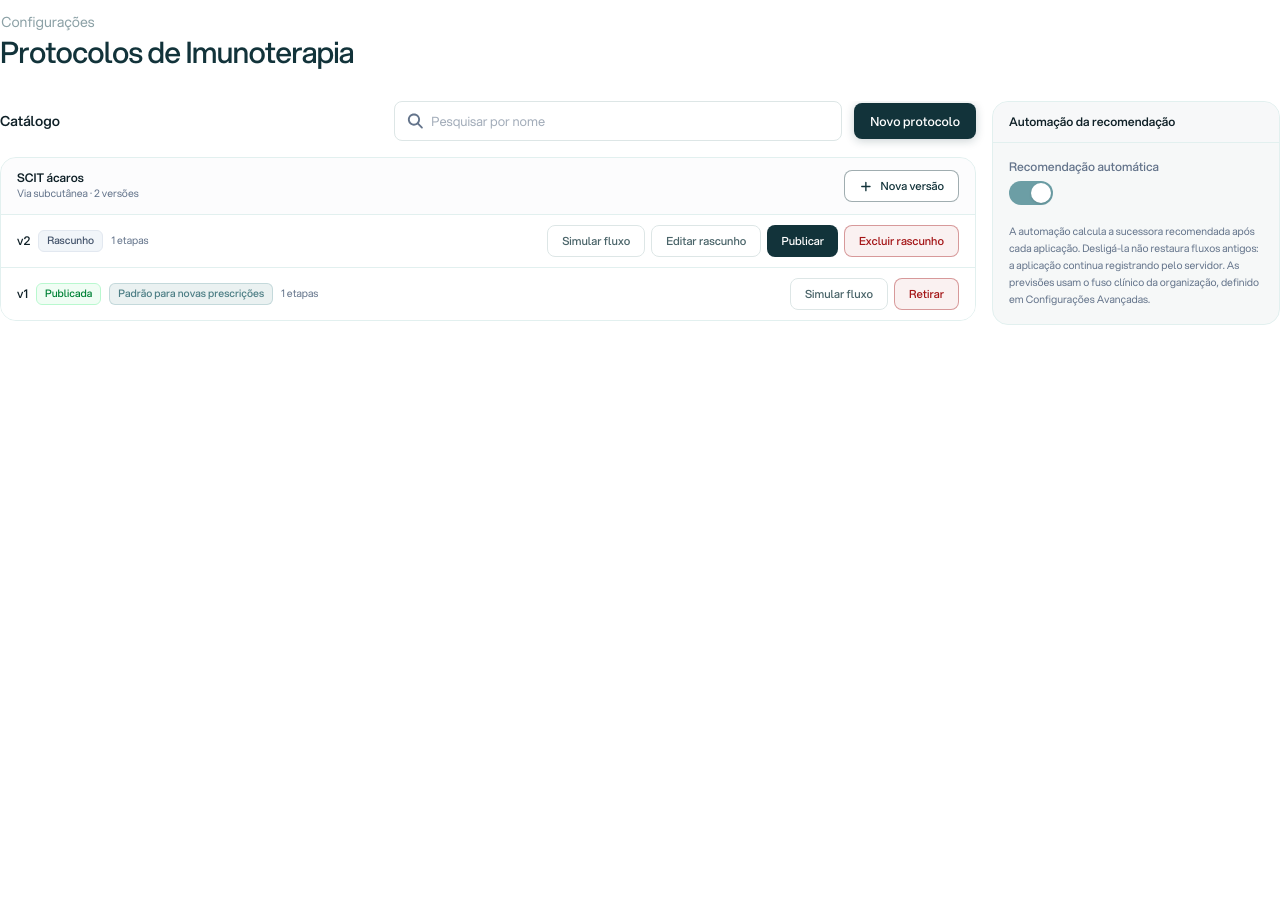
Test: decisão por código de erro › rede indisponível na publicação mantém a confirmação aberta
The width and height of the screenshot is (1280, 900).
Expected: the heading "SCIT ácaros" is shown, top-left (17, 169), bottom-right (84, 186)
Click the button "Publicar".
click(803, 241)  # box top-left (767, 225), bottom-right (838, 257)
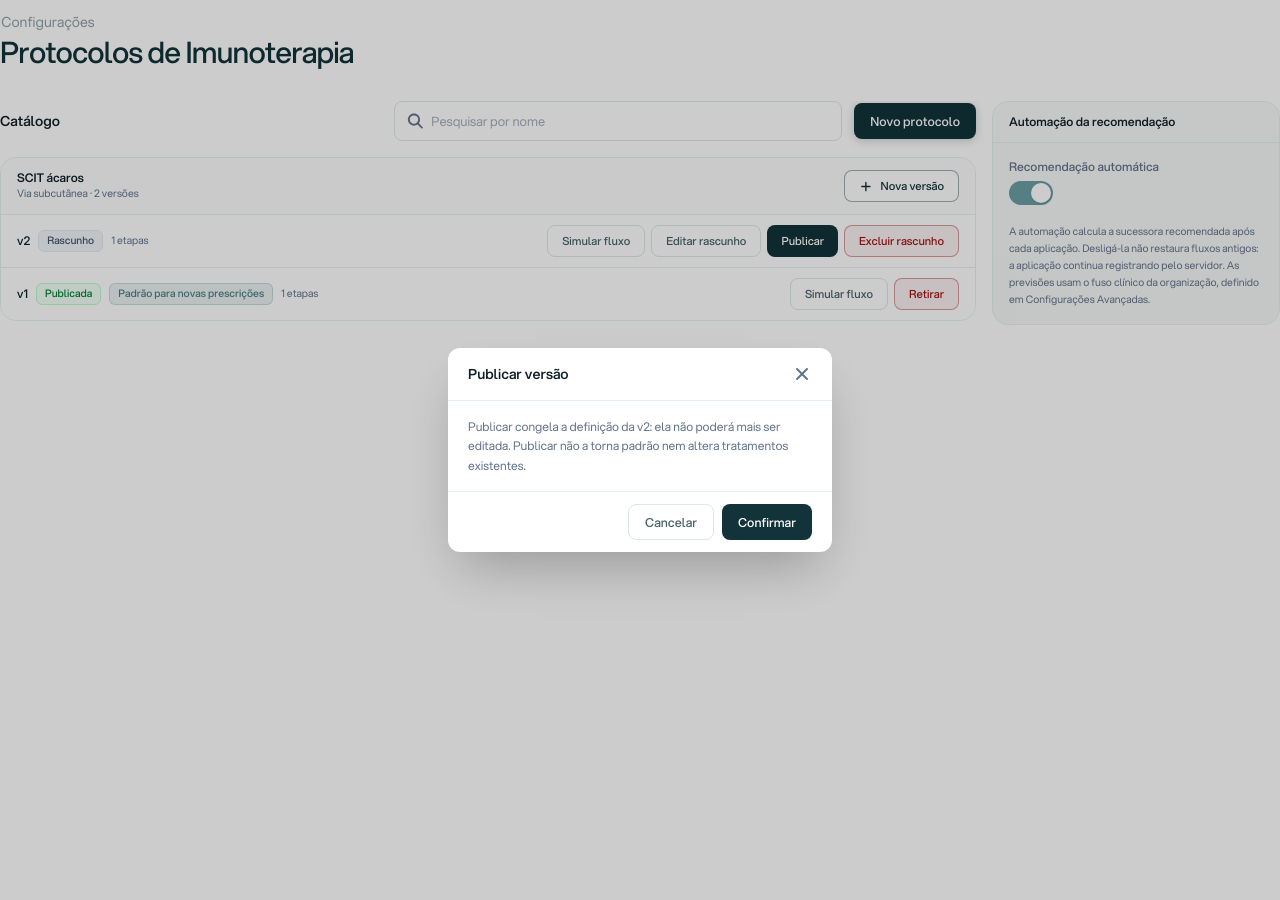
Click the button "Confirmar".
click(767, 522)  # box top-left (722, 504), bottom-right (812, 540)
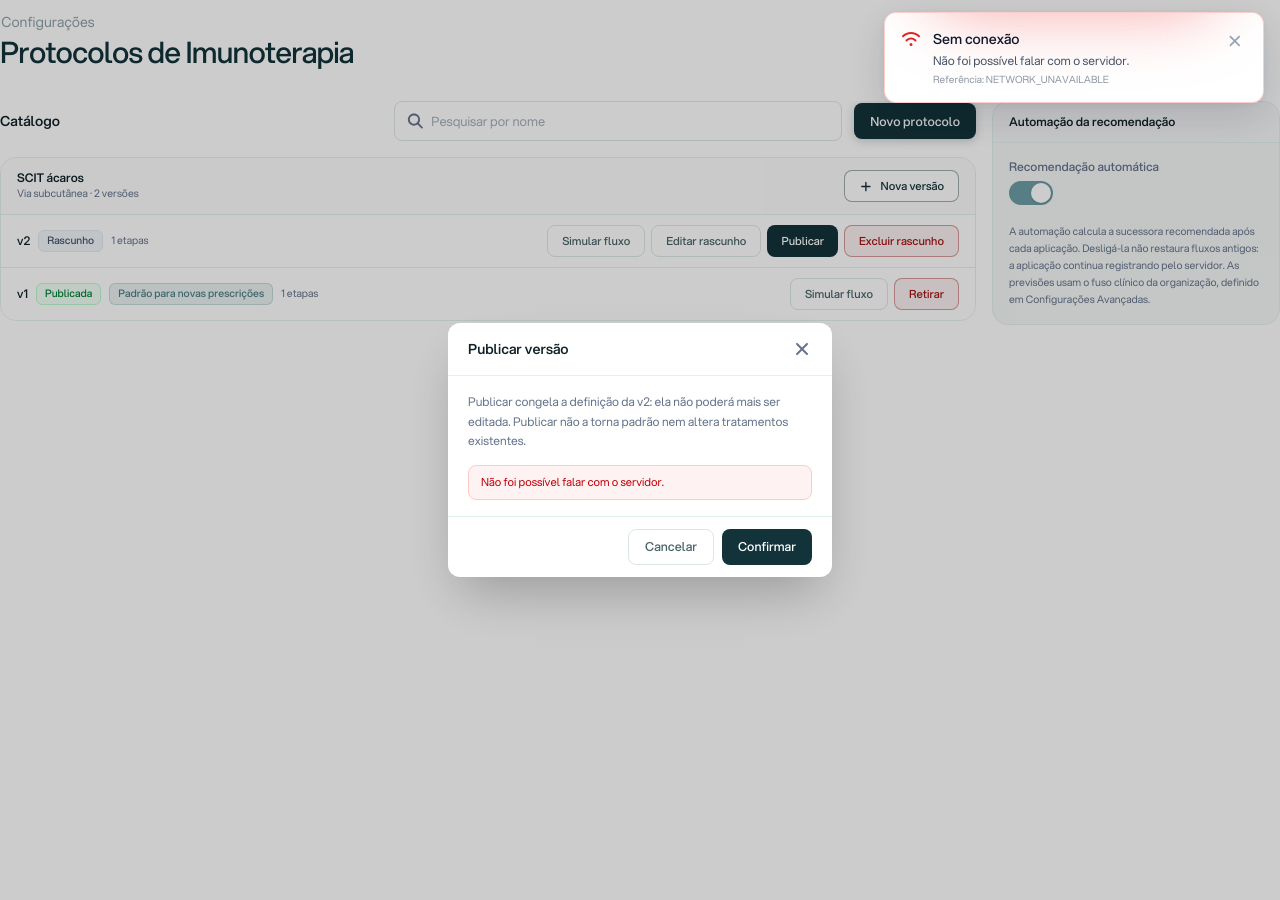
Expected: the message "Não foi possível falar com o servidor." is shown, top-left (468, 465), bottom-right (812, 500)
